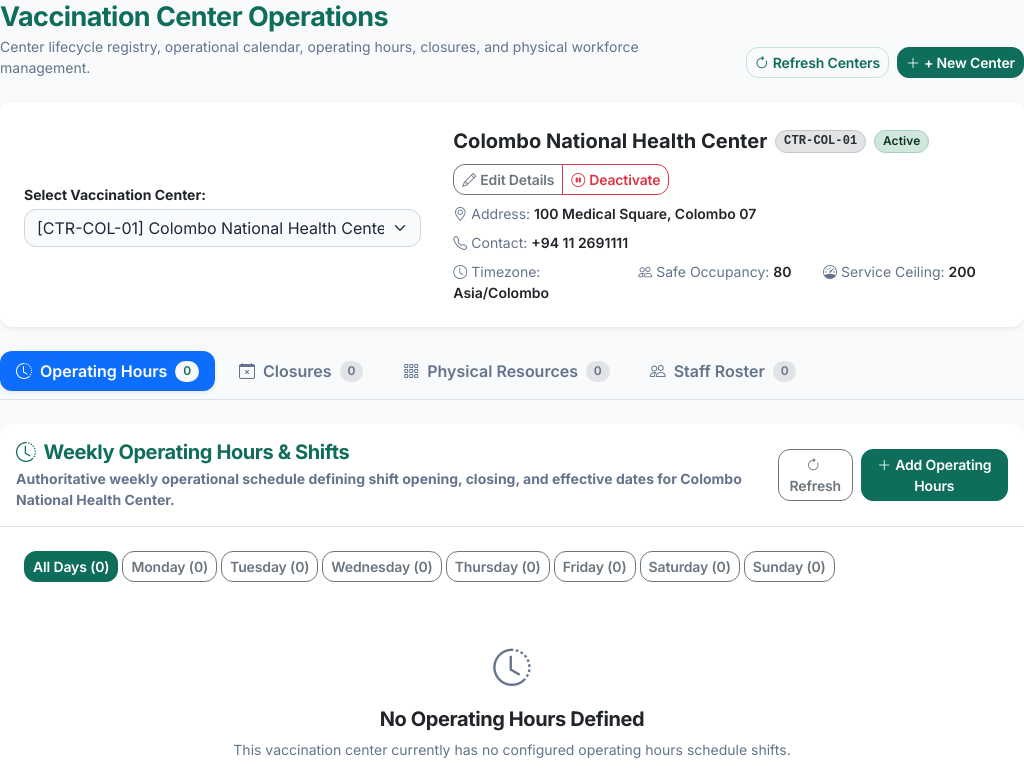
Test: CenterOperationsPage - Center CRUD integration › validates client-side input when registering a new center
Expected: the text "Colombo National Health Center" is shown, [453,126,767,156]
Click the button "+ New Center": (961, 63) [897,47,1023,78]
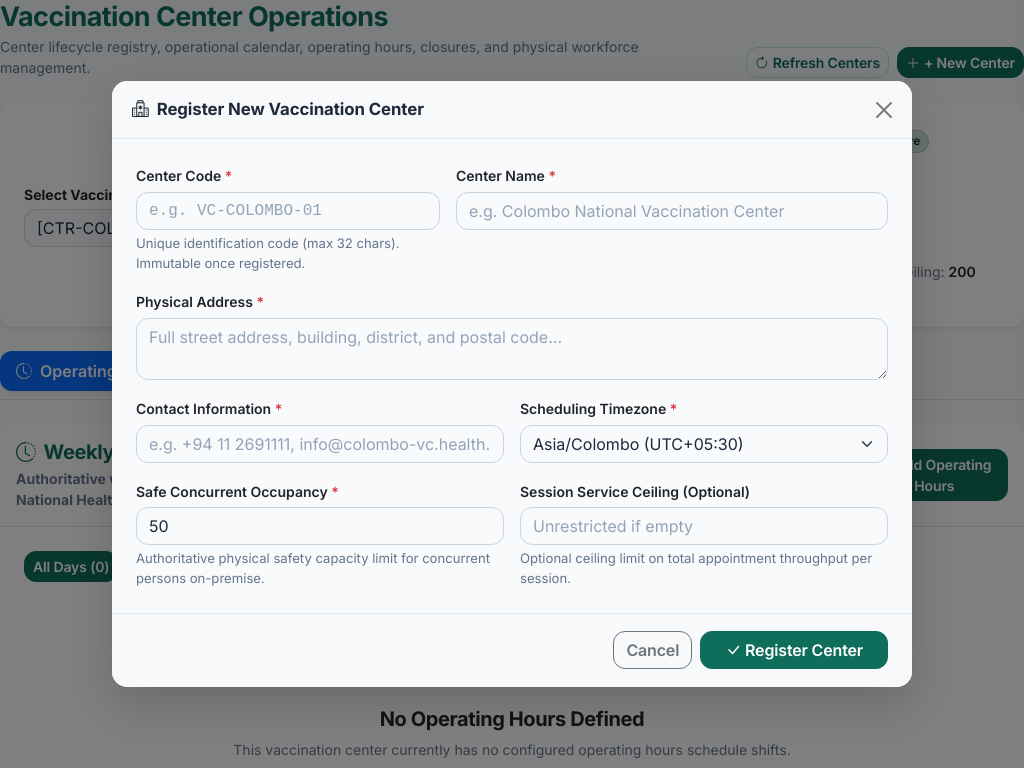
Now the heading "Register New Vaccination Center" is shown, box [132,97,424,122]
Submit with empty fields
Click the button "Register Center": (794, 650) [700,631,888,669]
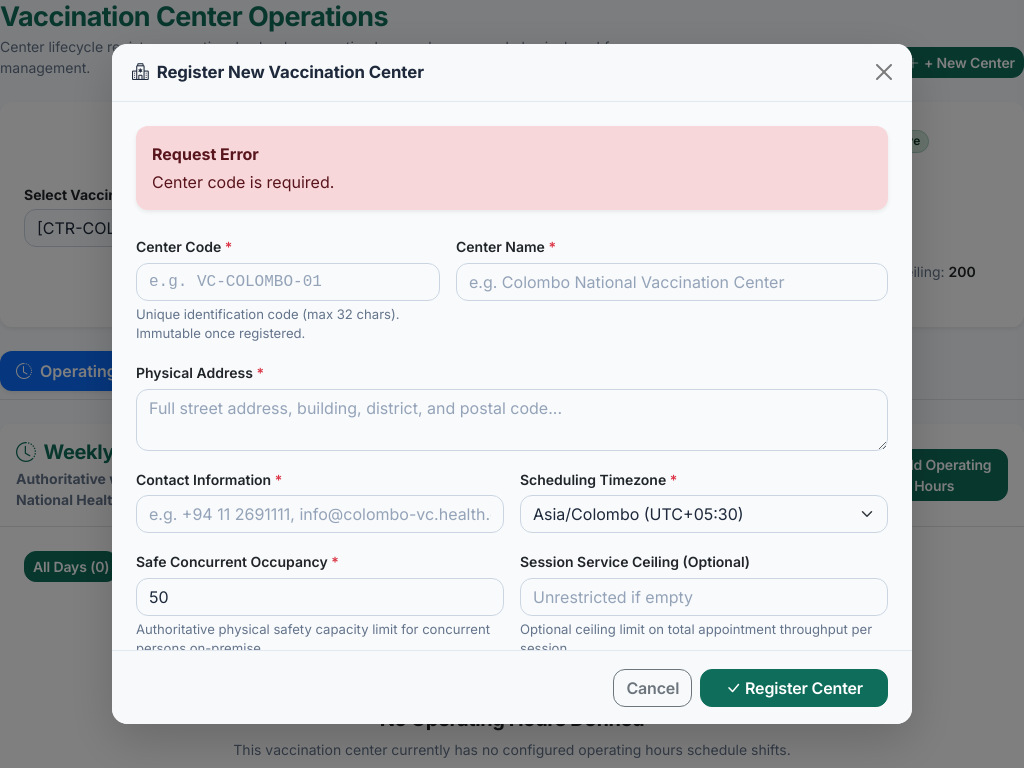
Now the text "Center code is required." is shown, box [152,170,334,194]
Fill code, submit without name
In the field labelled "Center Code *": (288, 282) [136,263,440,301], type "CTR-GAL-03"
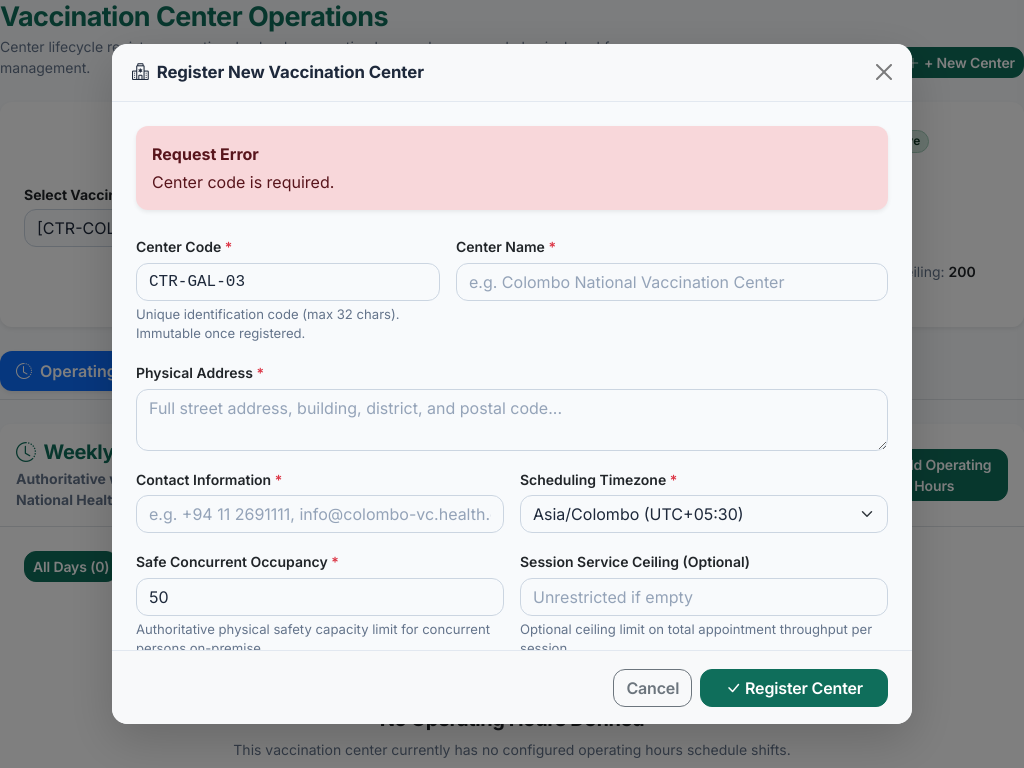
Click the button "Register Center": (794, 688) [700,669,888,707]
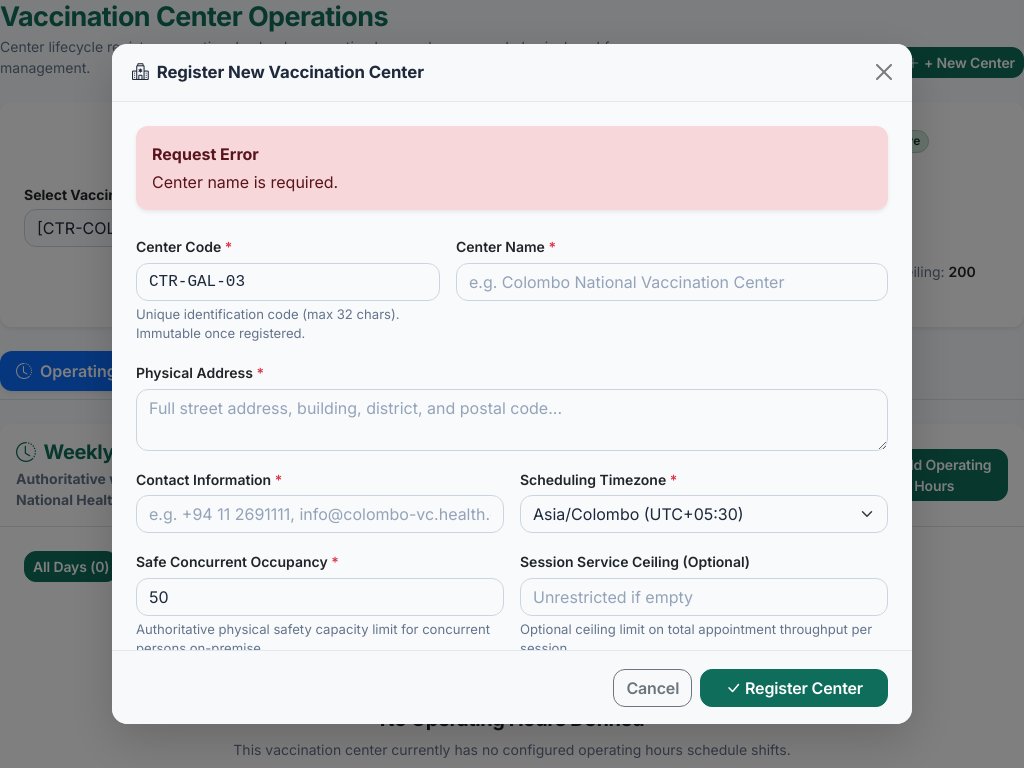
Now the text "Center name is required." is shown, box [152,170,338,194]
Fill name, submit without address
In the field labelled "Center Name *": (672, 282) [456,263,888,301], type "Galle General Center"
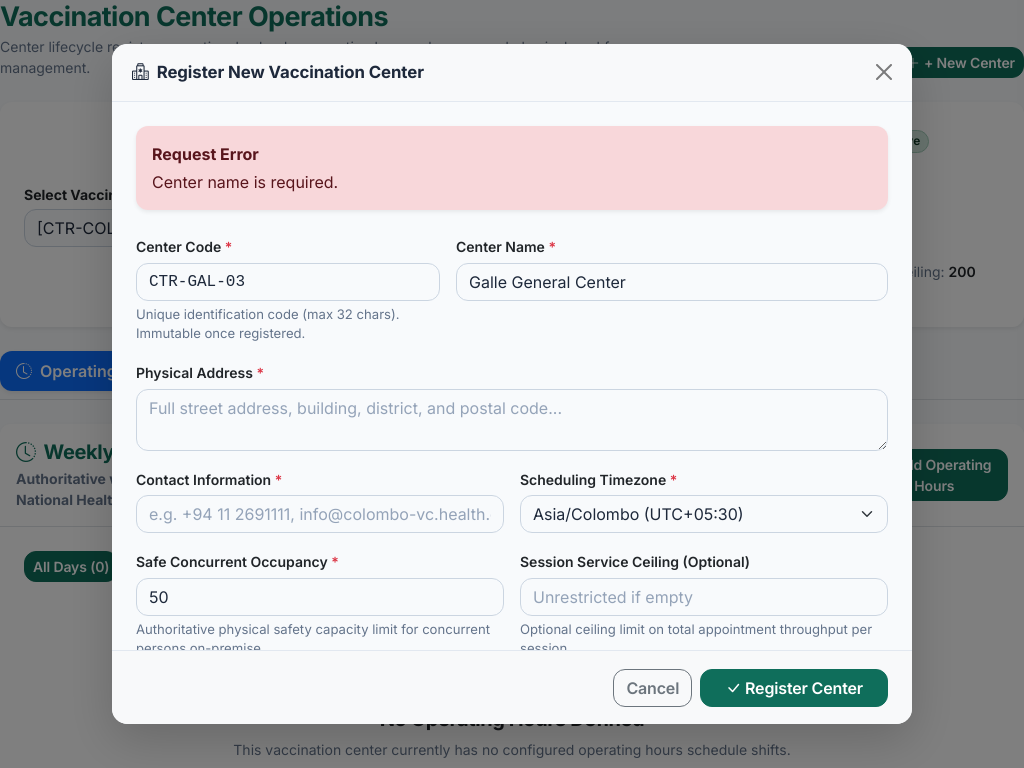
Click the button "Register Center": (794, 688) [700,669,888,707]
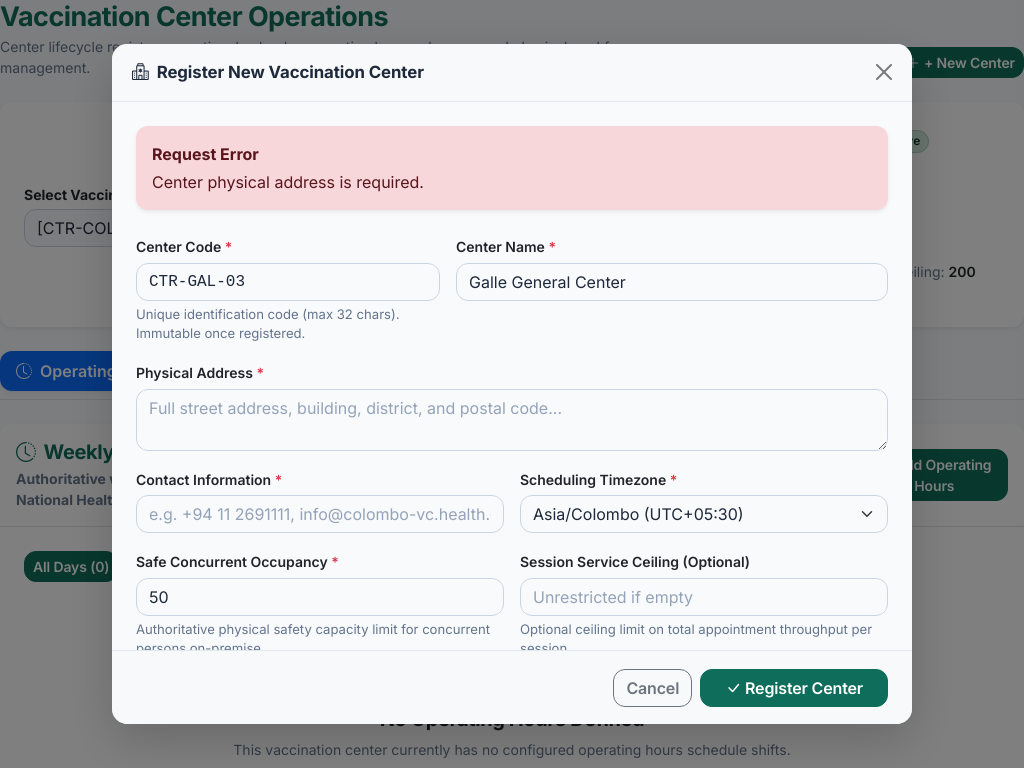
Now the text "Center physical address is required." is shown, box [152,170,424,194]
